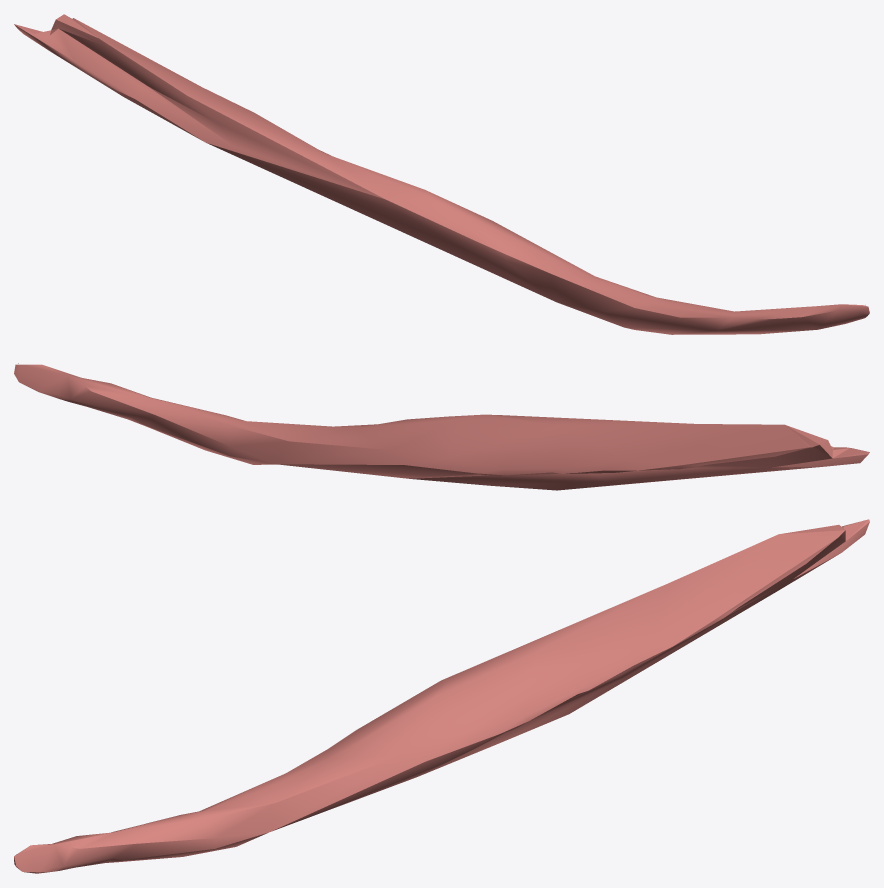
Rendered from fma37720_fj1385m.glb.
The picture shows the model from 3 angles, top to bottom: view 1: azimuth 30°, elevation 25°; view 2: azimuth 210°, elevation 25°; view 3: azimuth 270°, elevation 25°; orthographic projection. The views are drawn at different scales.
Visible parts, largest first — view 1: FMA37720_FJ1385M; view 2: FMA37720_FJ1385M; view 3: FMA37720_FJ1385M.
Boxes of the visible parts, left/top/right/bottom form: FMA37720_FJ1385M: left=14, top=14, right=869, bottom=334; FMA37720_FJ1385M: left=14, top=363, right=869, bottom=490; FMA37720_FJ1385M: left=14, top=519, right=869, bottom=873.
Bounding box in the file's own units: 0.0407 × 0.0142 × 0.0626.
